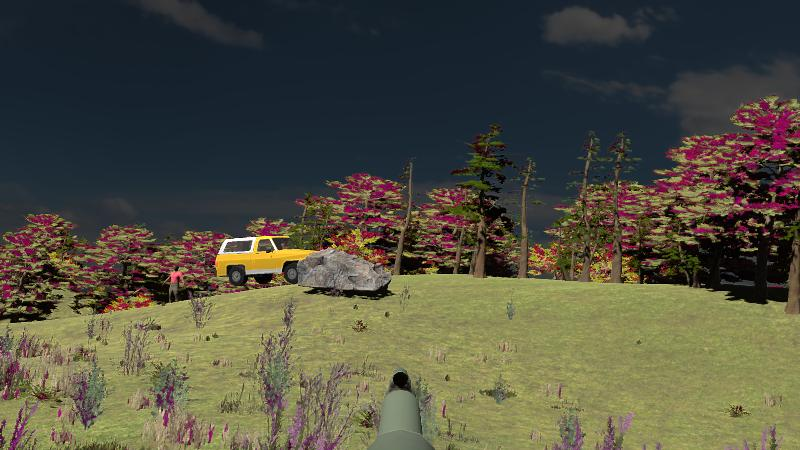Human: (165, 265, 185, 310)
car: (216, 234, 320, 287)
